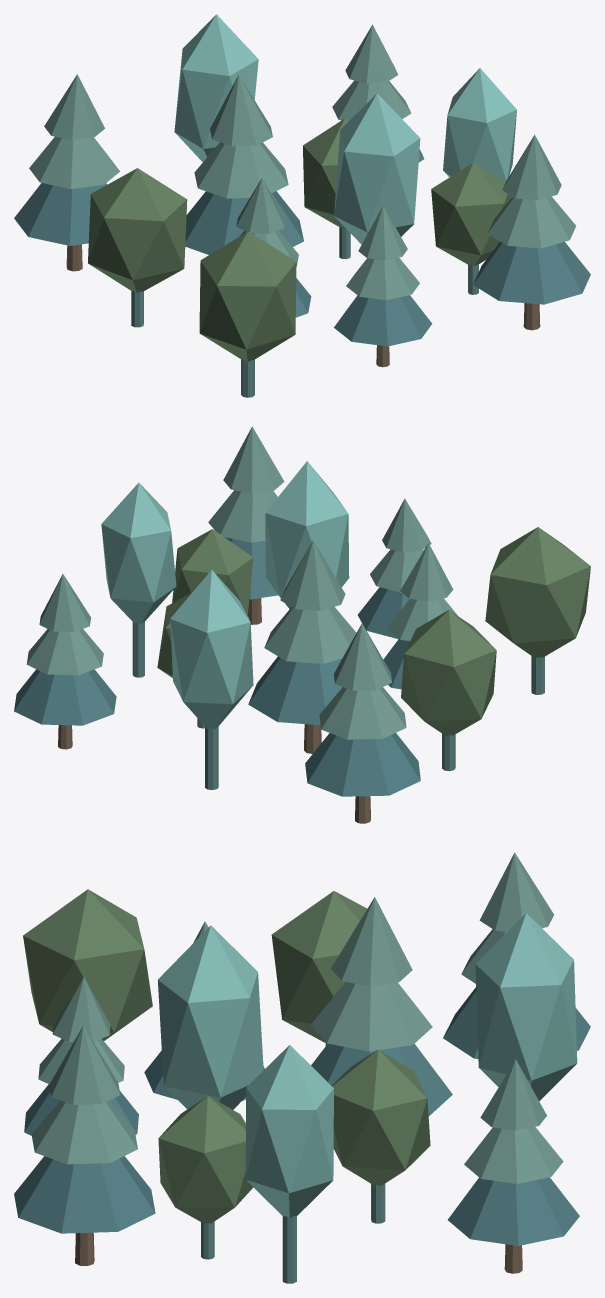
The model's file is campus_forest_dense_v01.glb.
The picture shows the model from 3 angles, top to bottom: view 1: azimuth 30°, elevation 25°; view 2: azimuth 150°, elevation 25°; view 3: azimuth 270°, elevation 25°; orthographic projection. The views are drawn at different scales.
Parts seen in each view (by area): view 1: campus_forest_dense; view 2: campus_forest_dense; view 3: campus_forest_dense.
Part boxes in pixels (x1,y1,x2,y2): campus_forest_dense: (14,14,590,397); campus_forest_dense: (14,426,590,823); campus_forest_dense: (14,852,590,1283).
Bounding box in the file's own units: 9.01 × 4.8 × 9.15.
Materials: 1 (1 with a texture image).
